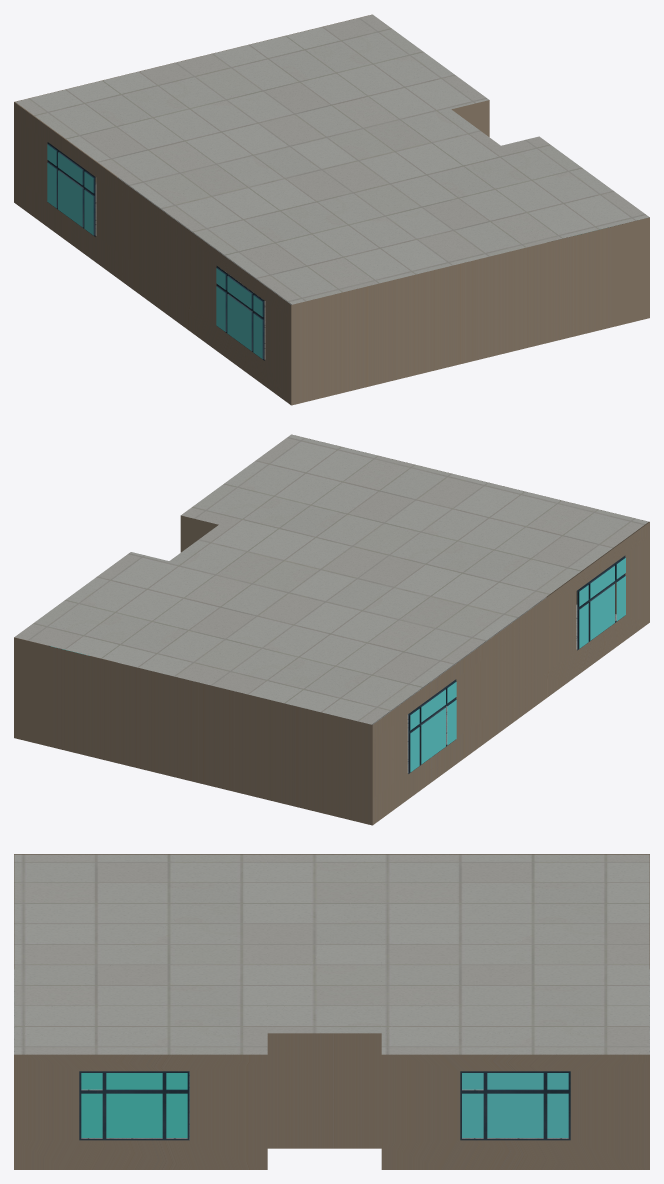
File: L1blender.fbx
The picture shows the model from 3 angles, top to bottom: view 1: azimuth 30°, elevation 25°; view 2: azimuth 150°, elevation 25°; view 3: azimuth 270°, elevation 25°; orthographic projection. The views are drawn at different scales.
Parts seen in each view (by area): view 1: Techo, Paredes, ventana1, Ventana2; view 2: Techo, Paredes, ventana1, Ventana2, Piso; view 3: Techo, Paredes, Ventana4, Ventana3, Piso.
Part boxes in pixels (left/top/right/bottom): Techo: left=15, top=14, right=649, bottom=304; Paredes: left=14, top=14, right=649, bottom=405; ventana1: left=216, top=266, right=264, bottom=360; Ventana2: left=47, top=142, right=95, bottom=236; Techo: left=14, top=434, right=648, bottom=724; Paredes: left=14, top=435, right=649, bottom=825; ventana1: left=577, top=555, right=625, bottom=650; Ventana2: left=408, top=679, right=456, bottom=773; Piso: left=118, top=597, right=616, bottom=772; Techo: left=14, top=854, right=649, bottom=1054; Paredes: left=14, top=854, right=649, bottom=1169; Ventana4: left=460, top=1071, right=570, bottom=1140; Ventana3: left=79, top=1071, right=189, bottom=1140; Piso: left=14, top=969, right=649, bottom=1139.
Size of what is drawn, in the model's own units: 1127 by 300 by 1500.
